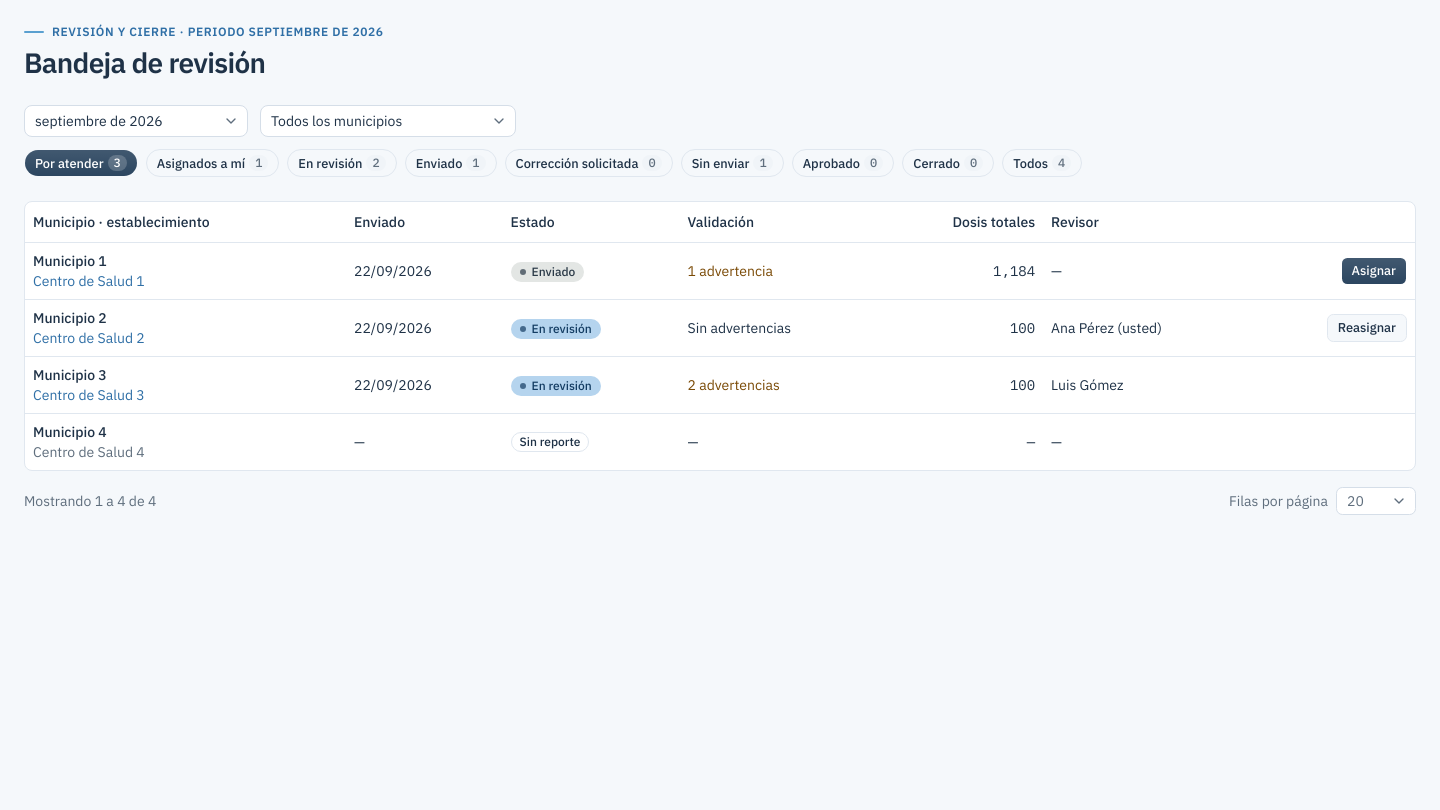
Test: asignar avisa con un toast y vuelve a cargar la bandeja
Expected: the table is shown, [25,202,1415,470]
What coordinates should you click on to do the following:
click the button "Asignar"
I would click on:
 (1374, 271)
Its box is [1341,257,1407,285].
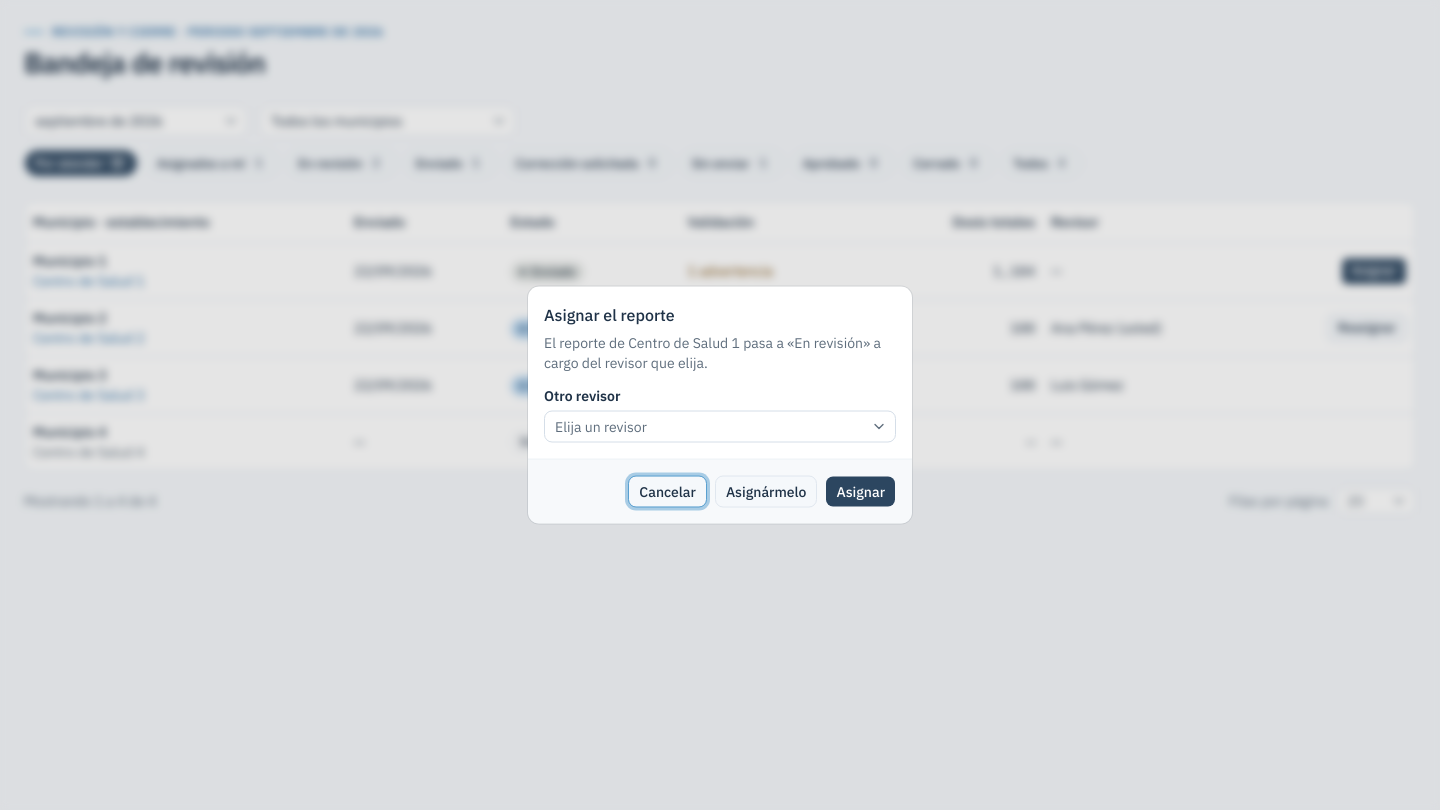
What coordinates should you click on to do the following:
click the button "Asignármelo"
I would click on:
 (766, 492)
Its box is [715,476,817,508].
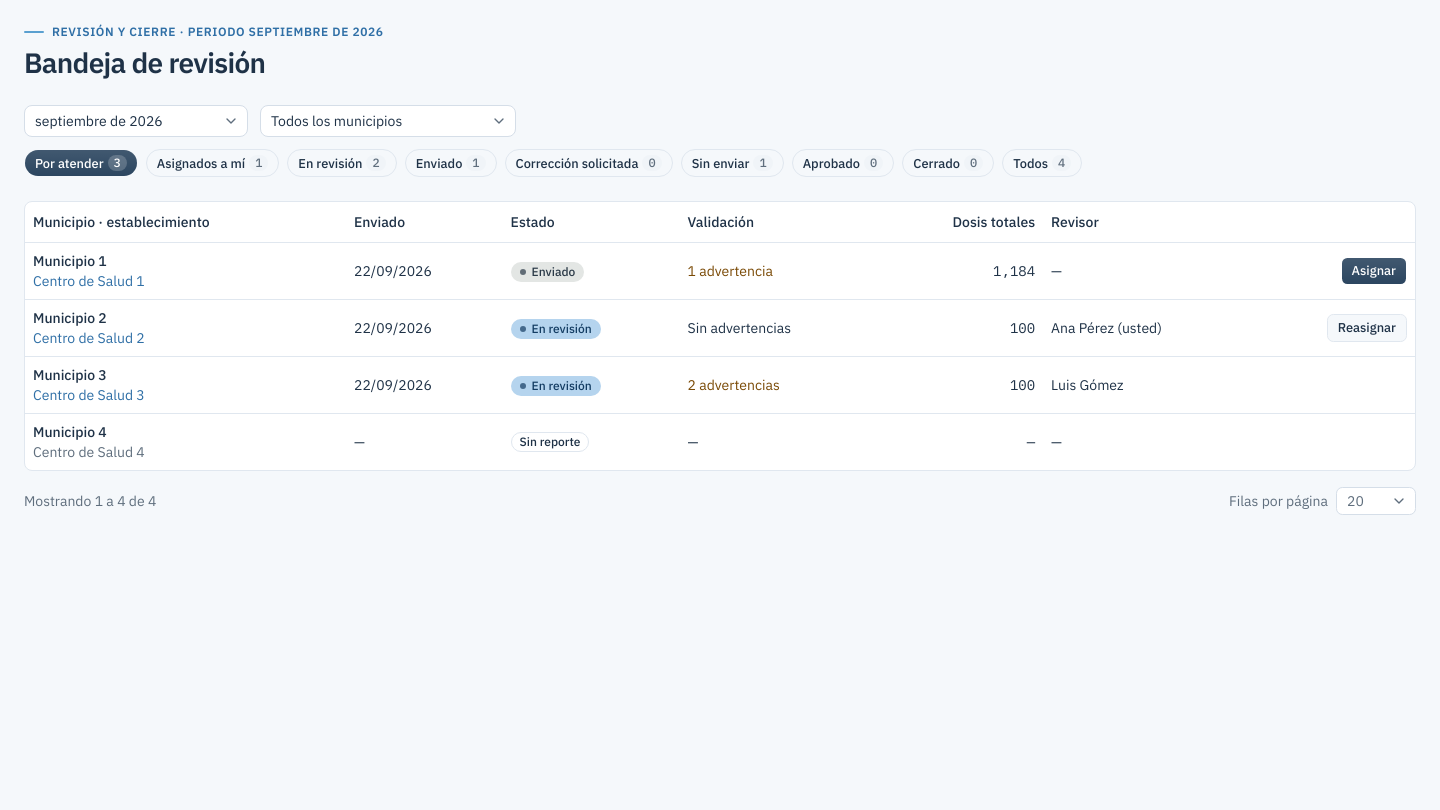
Expected: the dialog is gone
